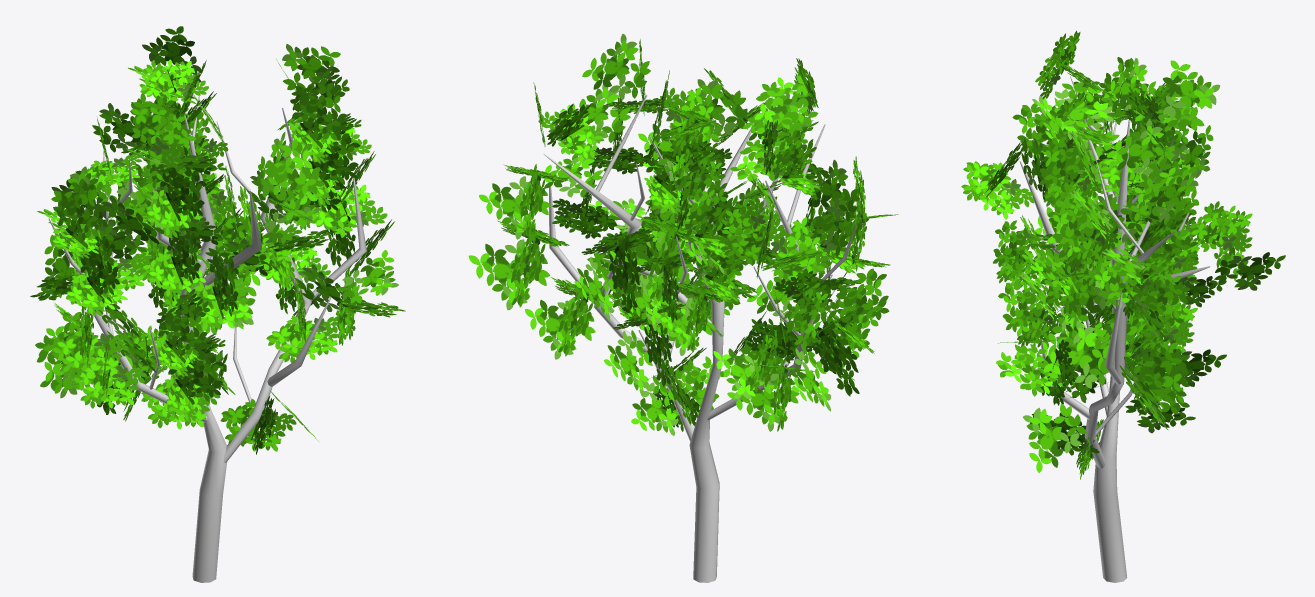
Rendered from Tree11.fbx.
3 renders of one model, left to right at view 1: azimuth 30°, elevation 25°; view 2: azimuth 150°, elevation 25°; view 3: azimuth 270°, elevation 25°, orthographic.
Parts seen in each view (by area): view 1: Tree11; view 2: Tree11; view 3: Tree11.
Part boxes in pixels (<box>): Tree11: <box>30,26,405,582</box>; Tree11: <box>468,34,898,582</box>; Tree11: <box>961,30,1285,582</box>.
Bounding box in the file's own units: 851 × 1078 × 665.
